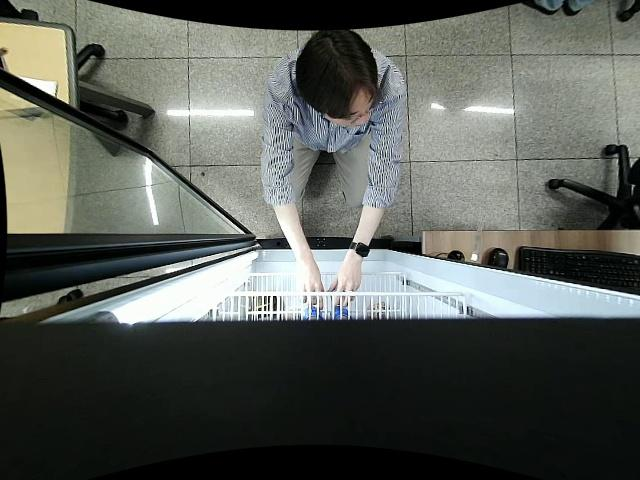00_hand: (327, 261, 361, 309), (299, 263, 325, 309)
